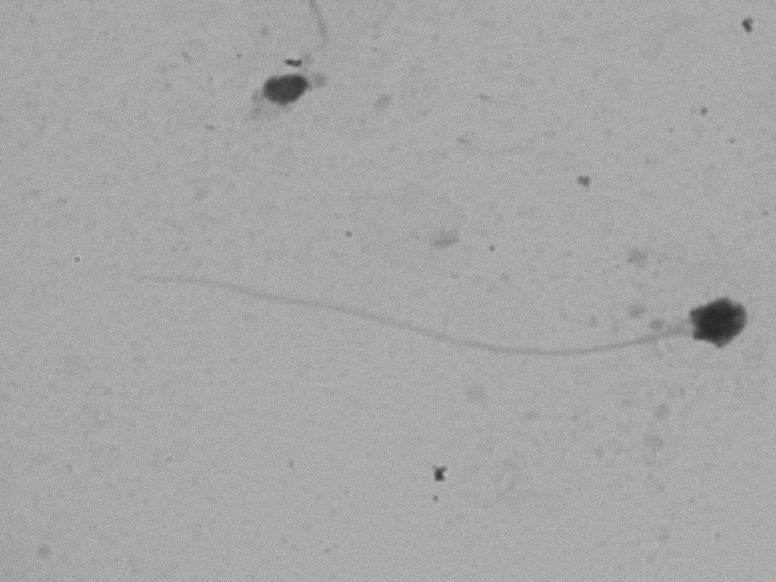Abnormal: (96, 193, 763, 396)
